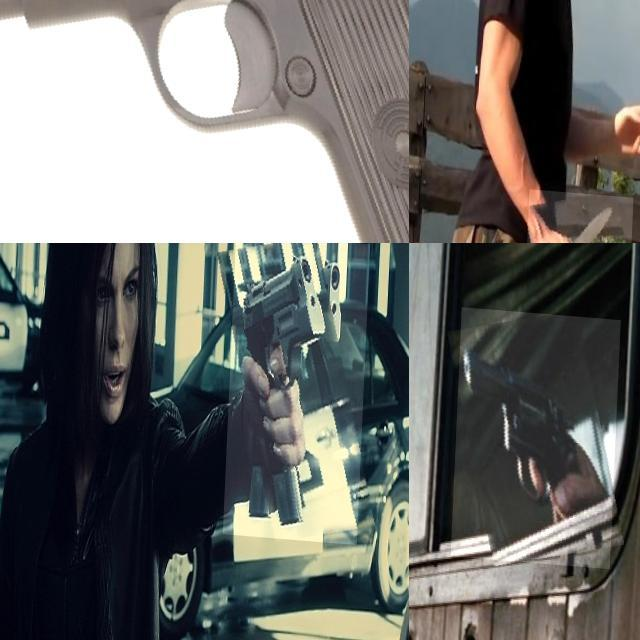-: (530, 185, 637, 243)
gun-knife-thesis - v11 Yolov5 augmented: (0, 0, 409, 243), (454, 301, 622, 561), (226, 243, 371, 536)
